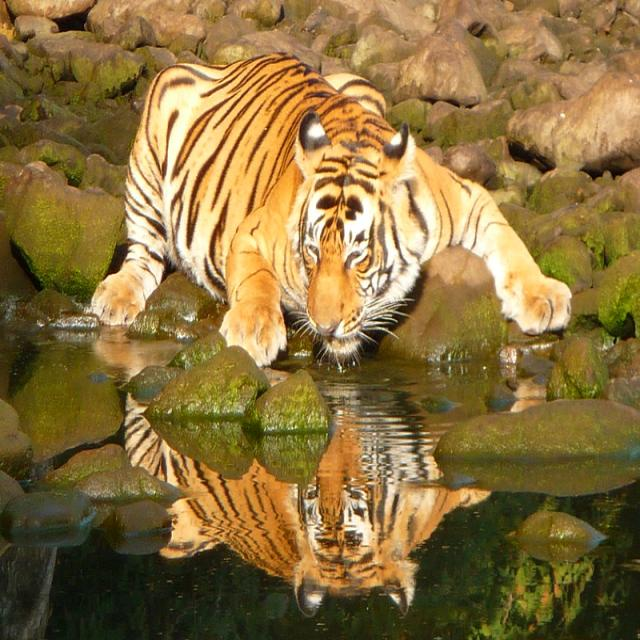Tiger: (86, 45, 574, 371), (118, 372, 500, 626)
